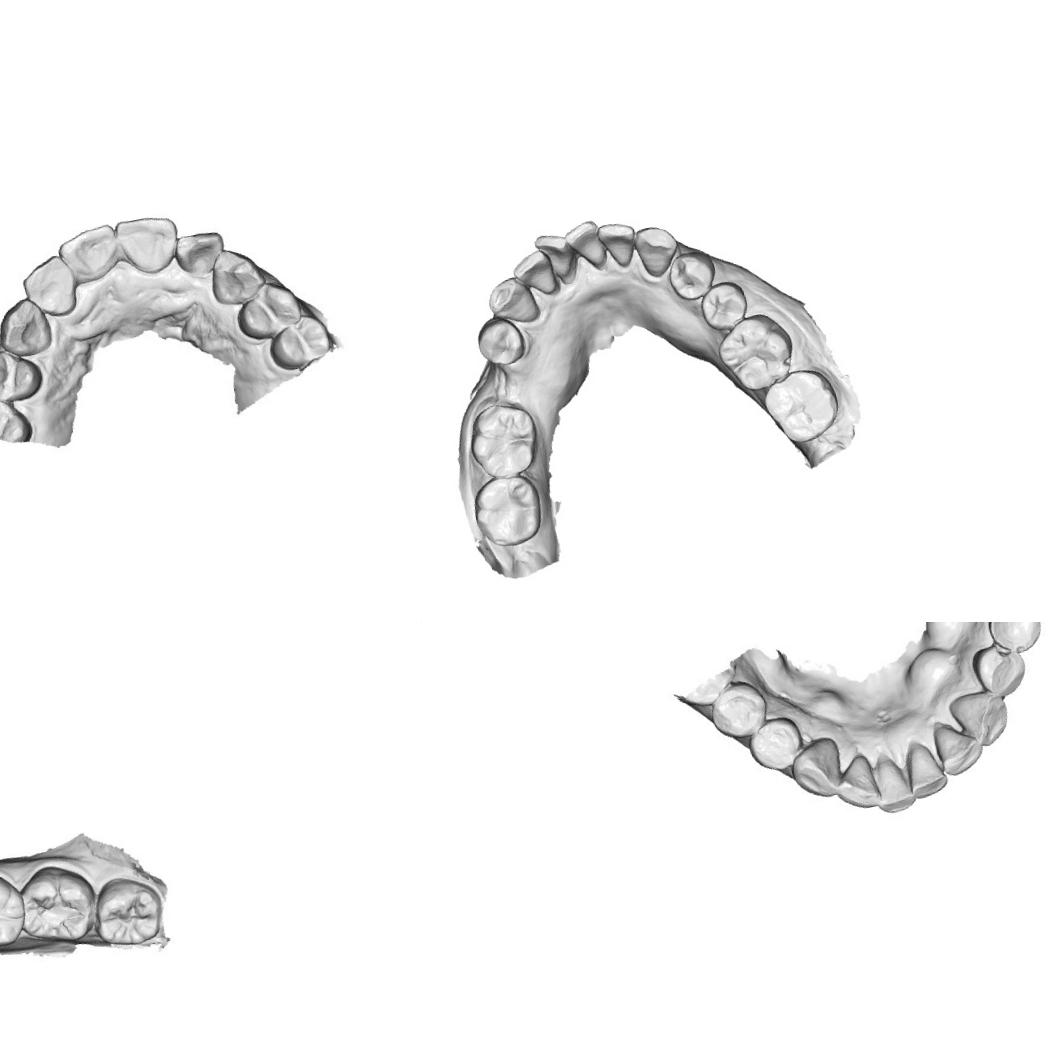canine: (945, 686, 1012, 750), (204, 244, 268, 309), (0, 292, 57, 361), (482, 270, 542, 330), (788, 740, 842, 803), (630, 220, 684, 282)
incisor: (112, 210, 186, 282), (53, 218, 125, 286), (17, 253, 82, 323), (932, 715, 984, 779), (830, 751, 880, 816), (868, 751, 915, 817), (901, 742, 951, 803), (507, 245, 560, 302), (172, 225, 228, 278), (560, 216, 610, 270), (593, 217, 641, 271), (531, 228, 577, 282)
molar: (710, 307, 800, 397), (756, 362, 844, 449), (14, 860, 96, 947), (462, 396, 543, 482), (468, 469, 548, 552), (86, 869, 164, 952), (0, 863, 33, 959)
premolar: (228, 271, 315, 343), (705, 676, 774, 744), (266, 312, 336, 378), (969, 638, 1030, 704), (746, 716, 805, 780), (694, 276, 752, 336), (663, 246, 720, 305), (472, 310, 528, 370), (0, 350, 42, 407), (982, 622, 1046, 653), (0, 394, 34, 450)
